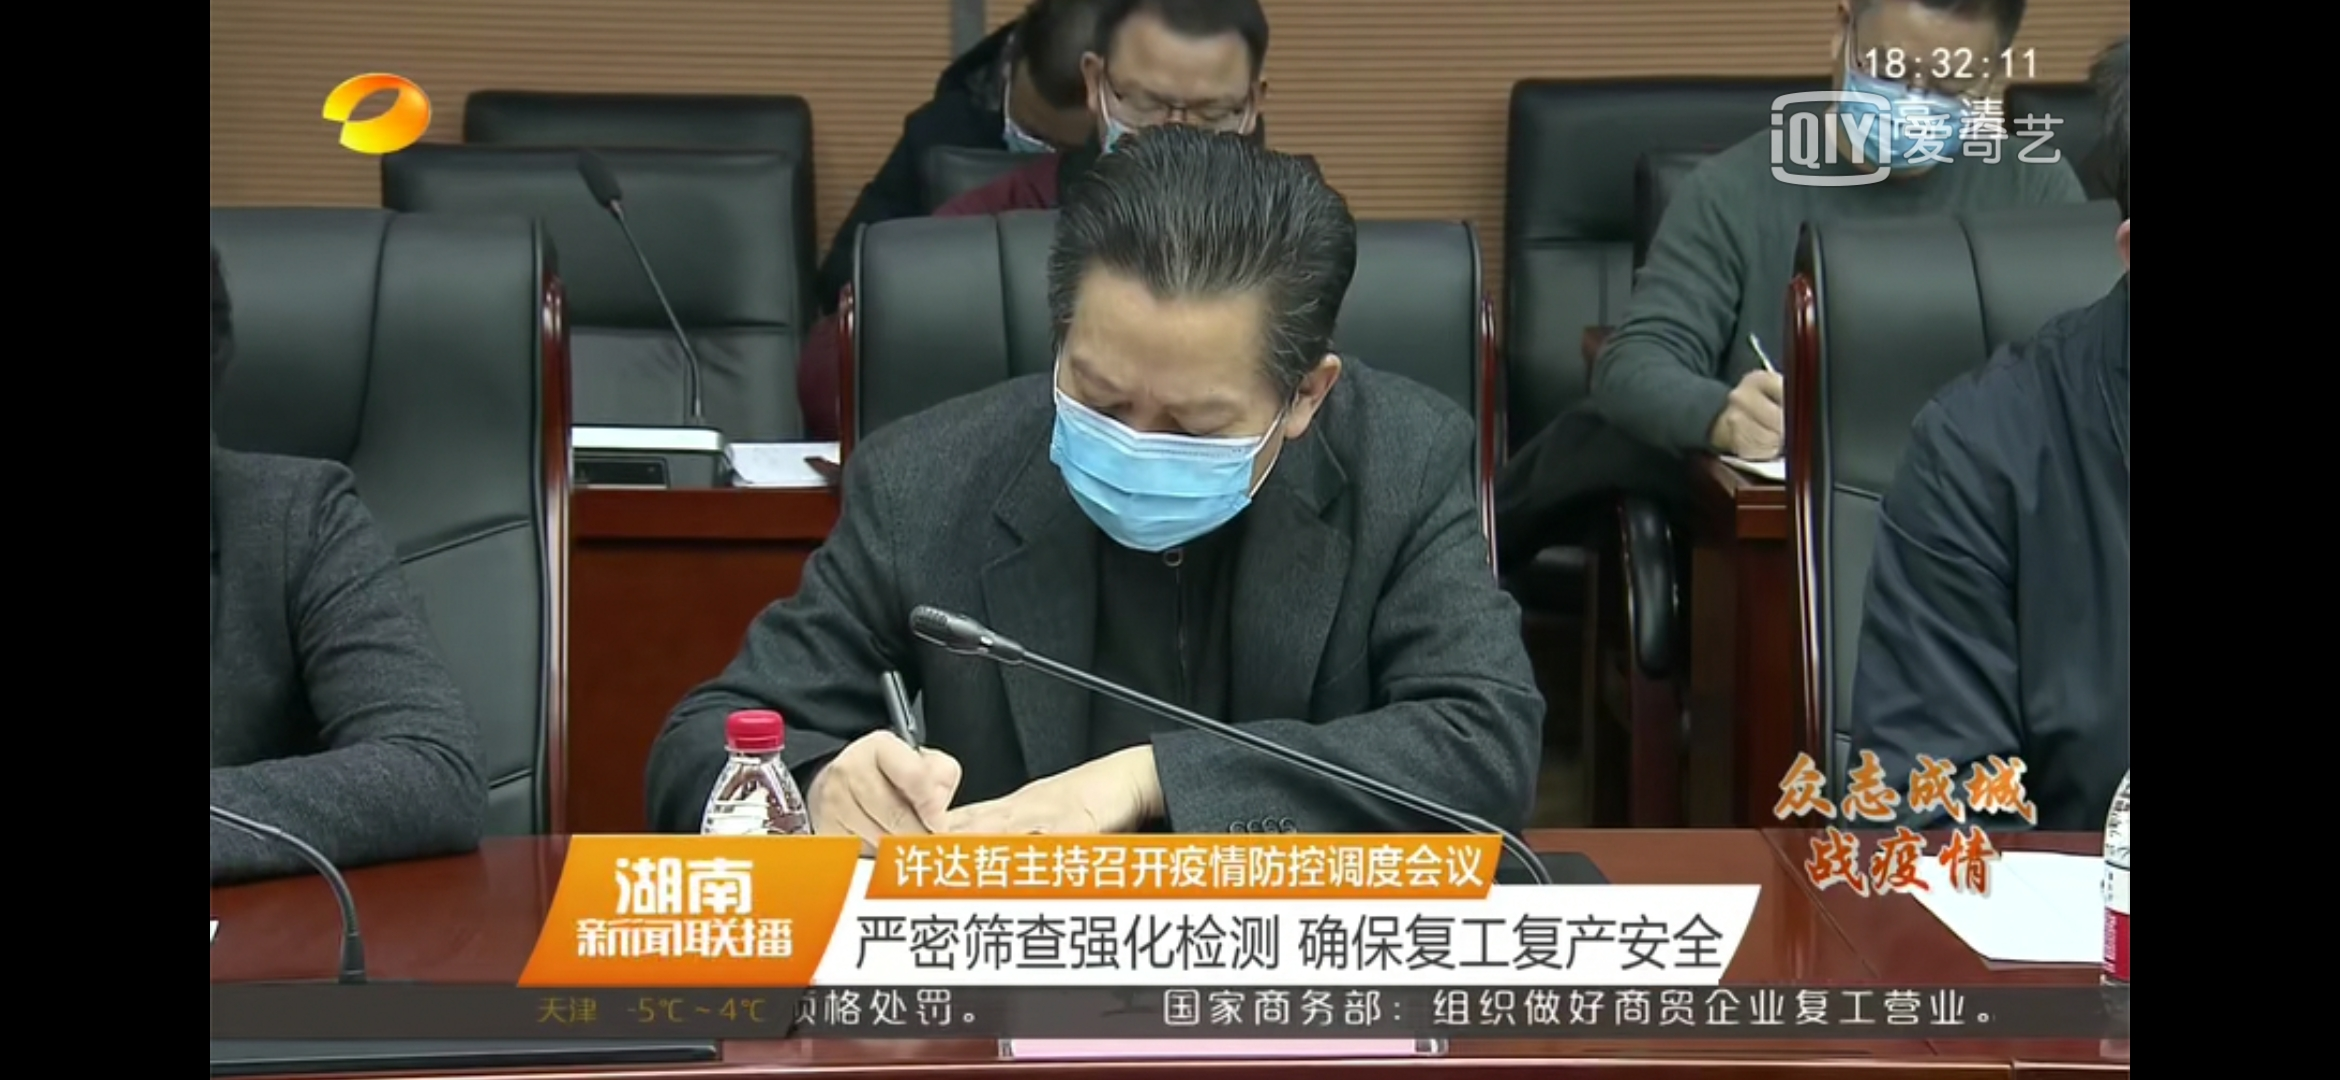correctlyWear: (1048, 336, 1336, 570), (1825, 1, 2018, 173)
